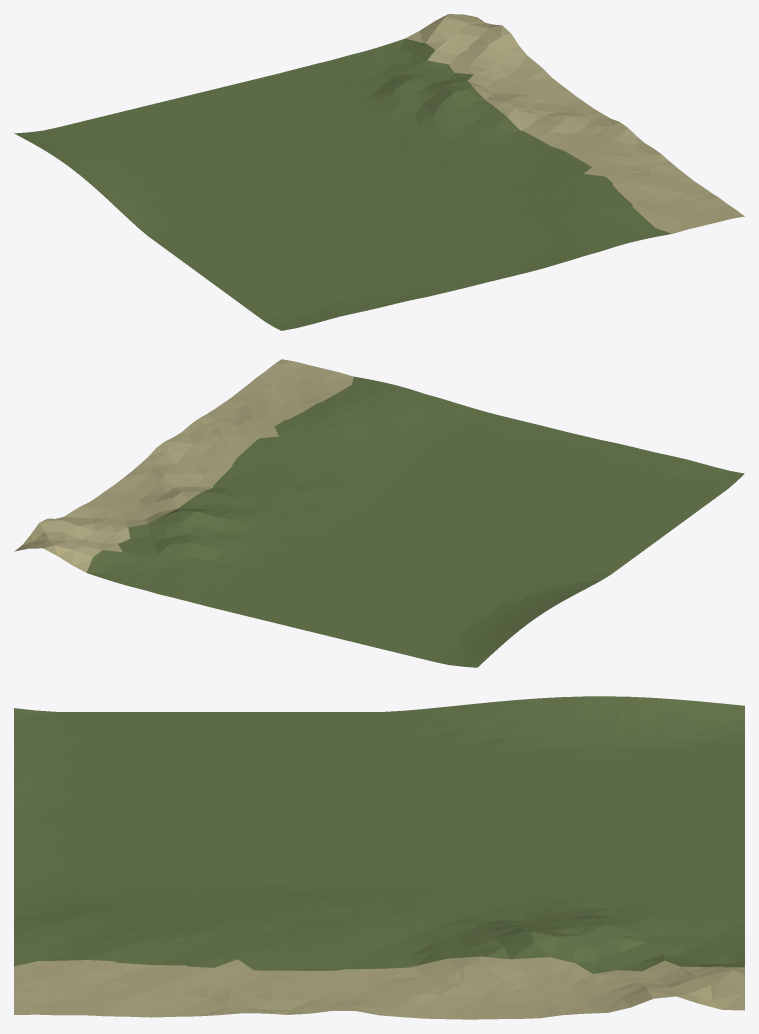
The model's file is Ground_-2_-4.glb.
3 renders of one model, top to bottom at view 1: azimuth 30°, elevation 25°; view 2: azimuth 150°, elevation 25°; view 3: azimuth 270°, elevation 25°, orthographic. The views are drawn at different scales.
Parts seen in each view (by area): view 1: Ground_-2_-4; view 2: Ground_-2_-4; view 3: Ground_-2_-4.
Part boxes in pixels (left/top/right/bottom): Ground_-2_-4: left=14, top=14, right=744, bottom=330; Ground_-2_-4: left=14, top=359, right=744, bottom=667; Ground_-2_-4: left=14, top=696, right=744, bottom=1019.
Bounding box in the file's own units: 768 × 31.3 × 768.
